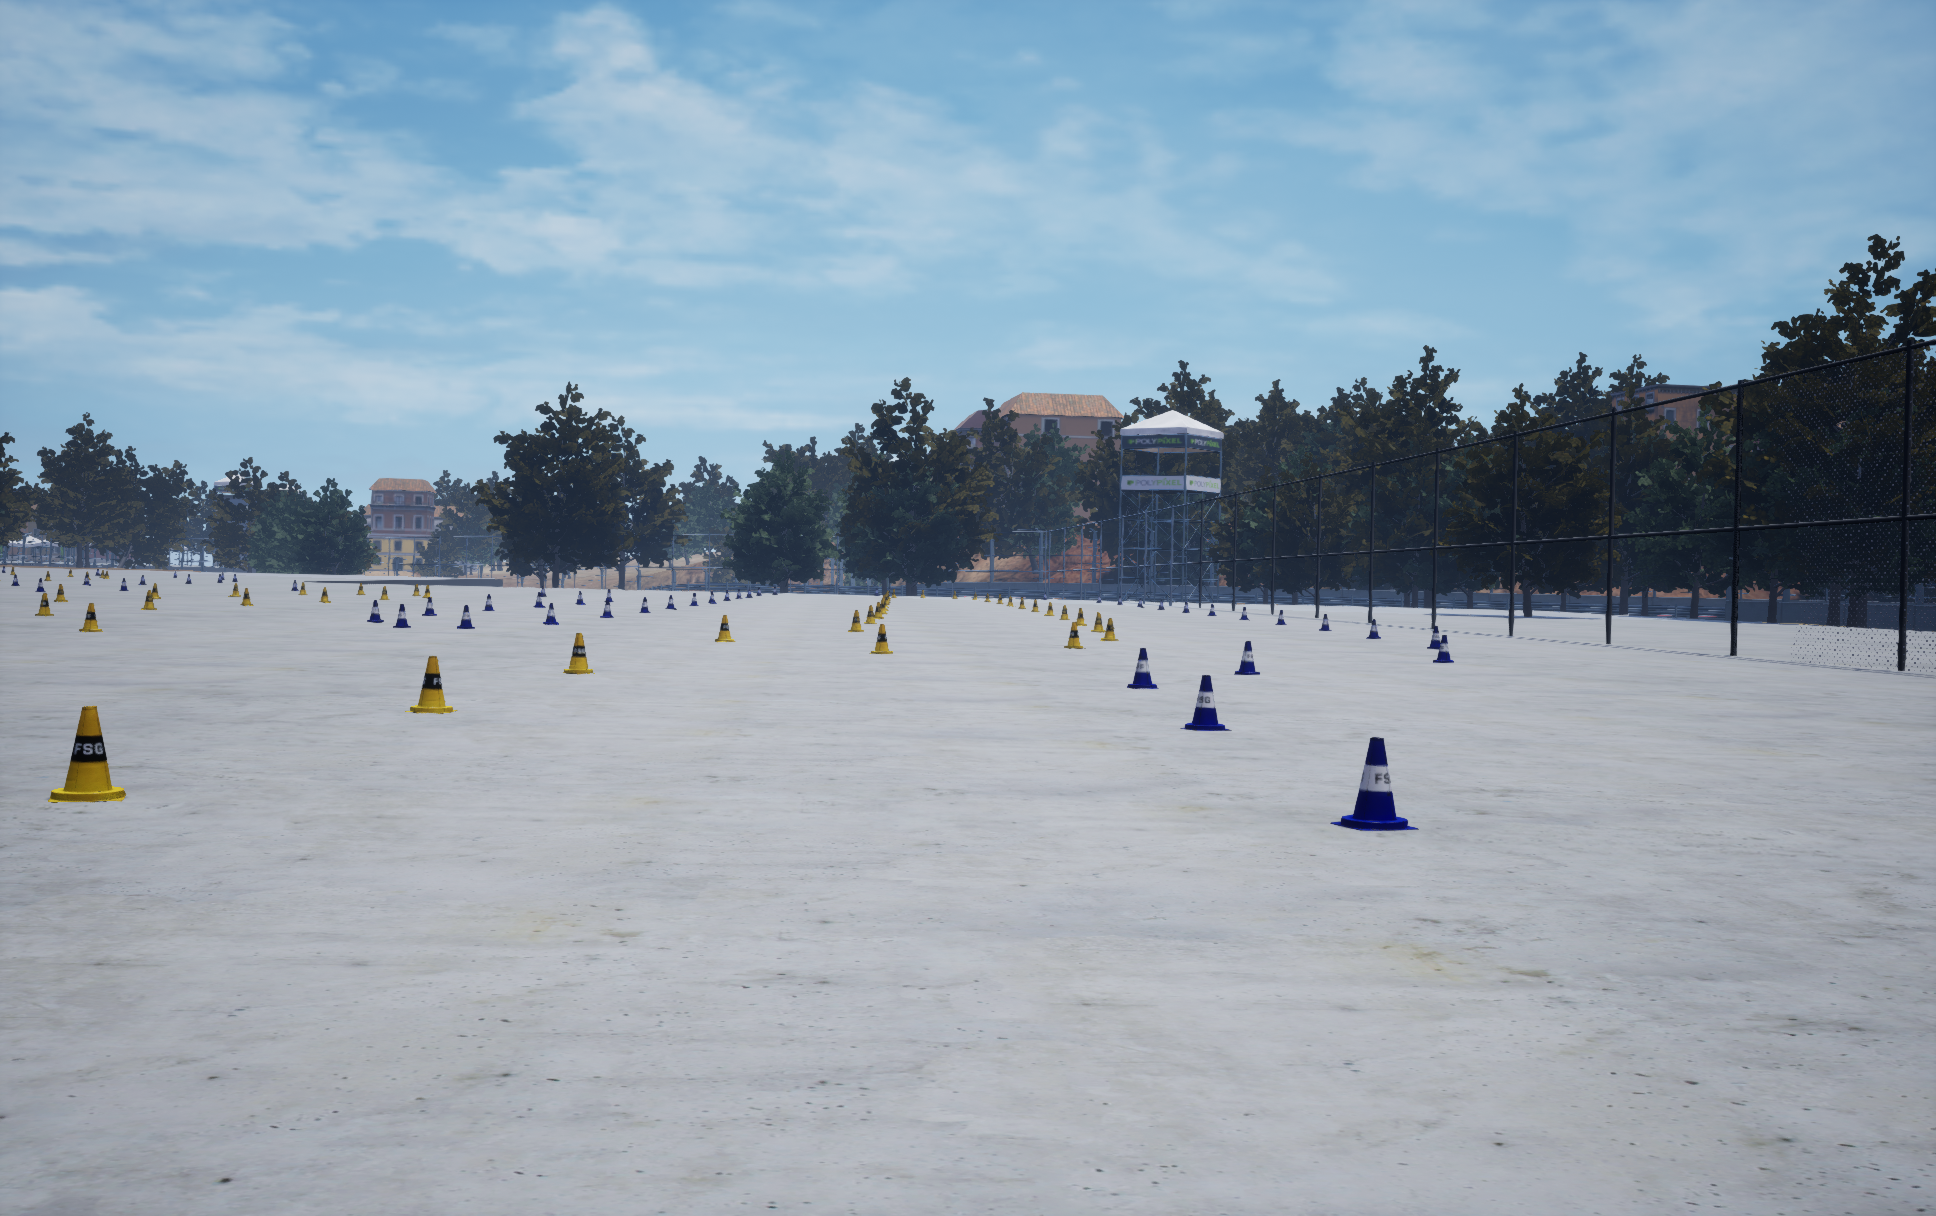blue: (48, 706, 125, 801), (405, 656, 457, 713), (563, 633, 594, 672), (869, 623, 892, 653), (78, 602, 102, 630), (714, 615, 735, 642), (1065, 622, 1086, 649), (35, 593, 53, 615), (1100, 618, 1118, 640), (848, 609, 863, 630), (141, 590, 155, 609), (1091, 612, 1105, 632), (864, 605, 876, 623)
yellow: (1329, 737, 1418, 829), (1180, 675, 1231, 730), (1128, 649, 1159, 688), (1234, 642, 1259, 674), (1433, 635, 1453, 663), (394, 604, 410, 628), (457, 605, 473, 628), (367, 600, 382, 622), (544, 602, 558, 623), (1427, 626, 1440, 649), (1366, 619, 1380, 637), (422, 597, 436, 615), (600, 600, 614, 616)
